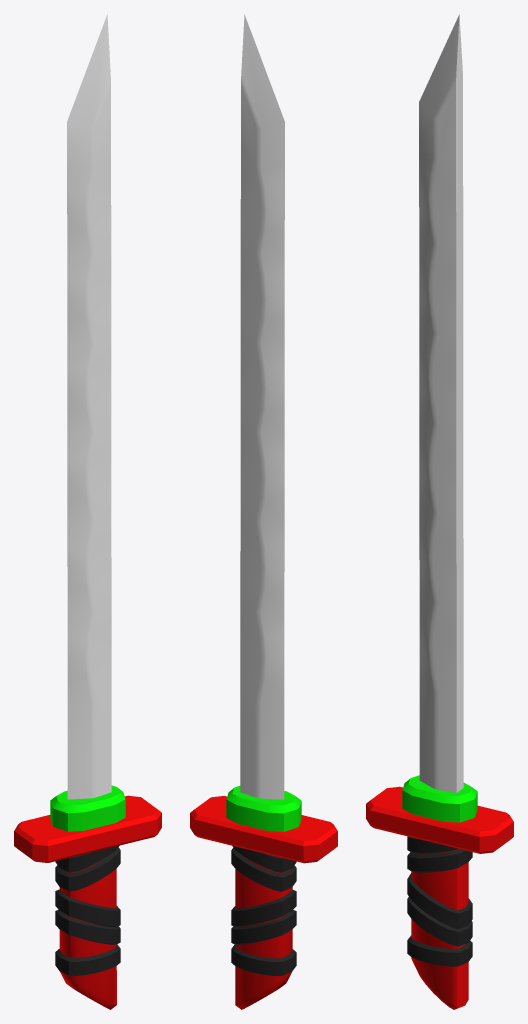
Rendered from Ronin_Sword.fbx.
3 renders of one model, left to right at view 1: azimuth 30°, elevation 25°; view 2: azimuth 150°, elevation 25°; view 3: azimuth 330°, elevation 25°, orthographic.
Visible parts, largest first — view 1: Samurai_Sword; view 2: Samurai_Sword; view 3: Samurai_Sword.
Part boxes in pixels (left/top/right/bottom): Samurai_Sword: left=14, top=14, right=161, bottom=1009; Samurai_Sword: left=190, top=14, right=337, bottom=1009; Samurai_Sword: left=366, top=14, right=513, bottom=1009.
Bounding box in the file's own units: 16.4 × 120 × 6.59.
